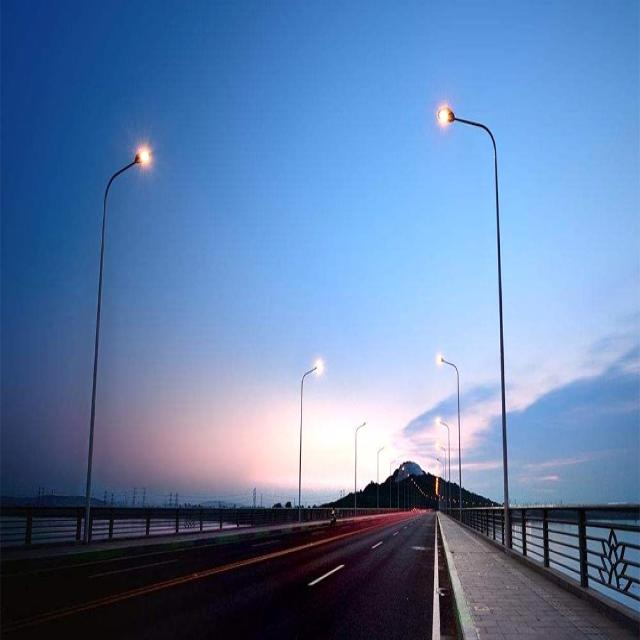Street Light: (436, 105, 512, 553), (84, 148, 151, 540), (436, 356, 463, 527), (298, 362, 322, 521), (436, 416, 452, 514), (354, 419, 366, 520), (435, 442, 447, 506), (376, 445, 385, 514), (389, 458, 396, 520)
